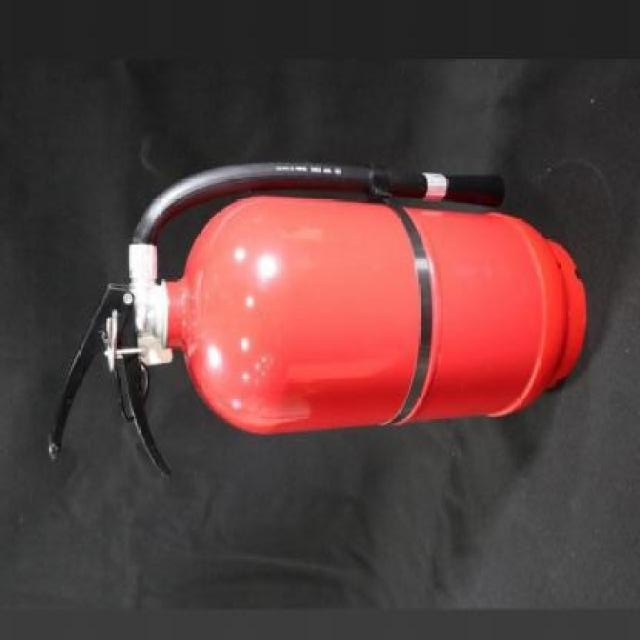fire extinguisher: (48, 160, 588, 478)
